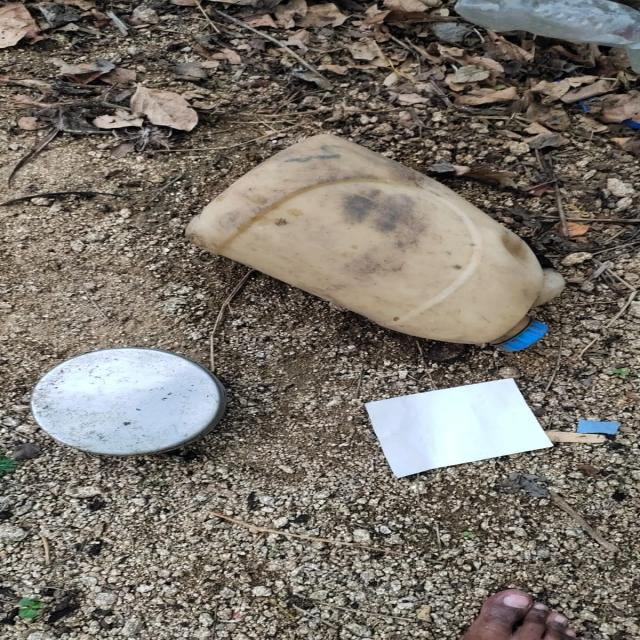metal: (15, 342, 240, 465)
paper: (314, 362, 616, 505)
plastic: (172, 115, 616, 350)
